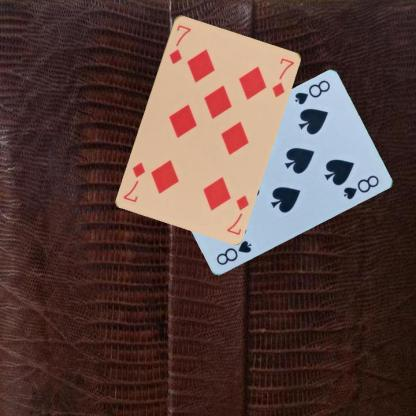7d: (224, 192, 250, 236), (166, 22, 192, 65)
8s: (213, 238, 253, 267), (291, 78, 332, 106)
